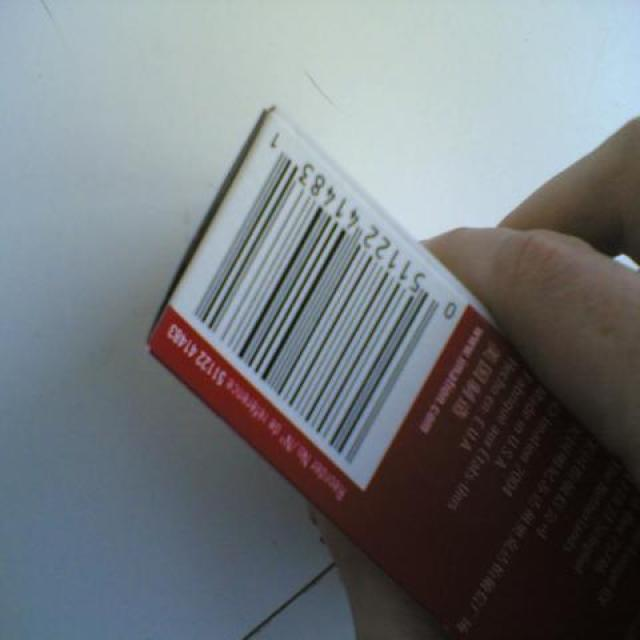Barcode: (166, 101, 471, 491)
